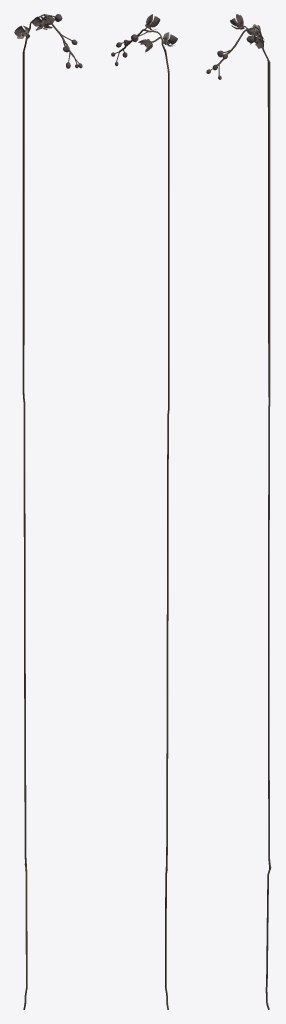
File: flower1.fbx
3 renders of one model, left to right at view 1: azimuth 30°, elevation 25°; view 2: azimuth 210°, elevation 25°; view 3: azimuth 270°, elevation 25°, orthographic. The views are drawn at different scales.
Visible parts, largest first — view 1: flower_terrain; view 2: flower_terrain; view 3: flower_terrain.
Boxes of the visible parts, x1,y1,x2,y2 form: flower_terrain: (14,14,82,1009); flower_terrain: (111,14,177,1009); flower_terrain: (206,14,271,1009).
Size of the model in its own units: 2.8 by 58.86 by 3.49.
